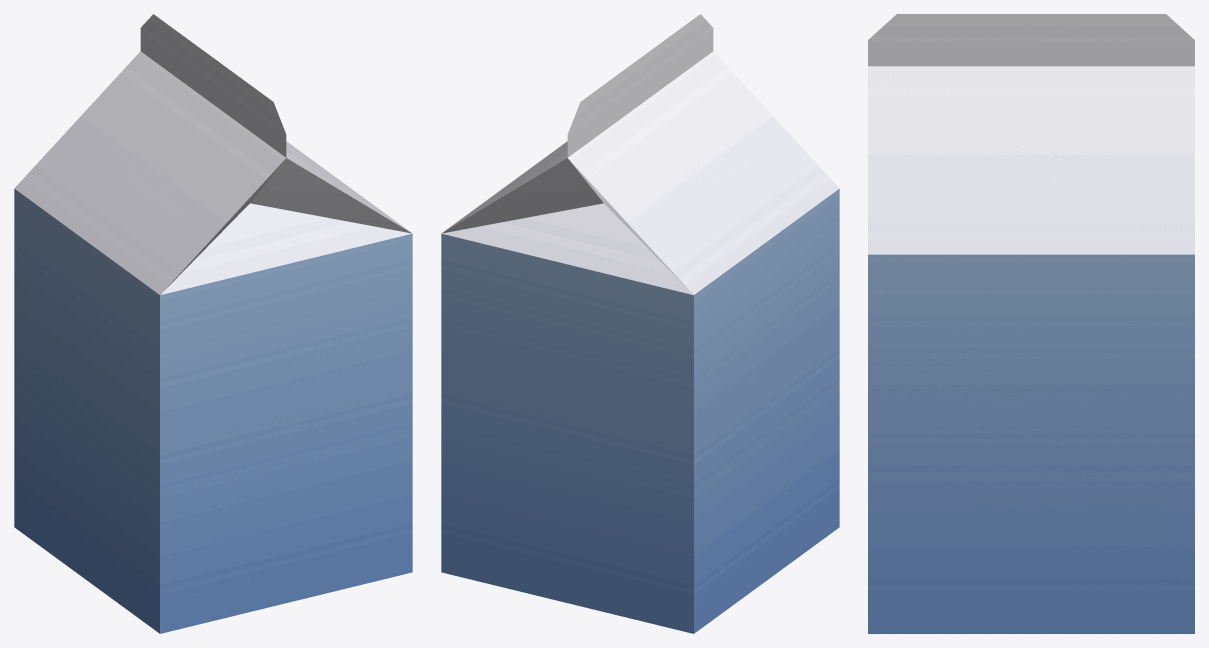
The model's file is carton.glb.
3 views of the same model, side by side, from view 1: azimuth 30°, elevation 25°; view 2: azimuth 150°, elevation 25°; view 3: azimuth 270°, elevation 25° (orthographic). The views are drawn at different scales.
Parts seen in each view (by area): view 1: carton; view 2: carton; view 3: carton.
Part boxes in pixels (left/top/right/bottom): carton: left=14, top=14, right=412, bottom=633; carton: left=441, top=14, right=839, bottom=633; carton: left=868, top=14, right=1194, bottom=633.
Bounding box in the file's own units: 0.1539 × 0.2864 × 0.1539.
1 material, 1 textured.
